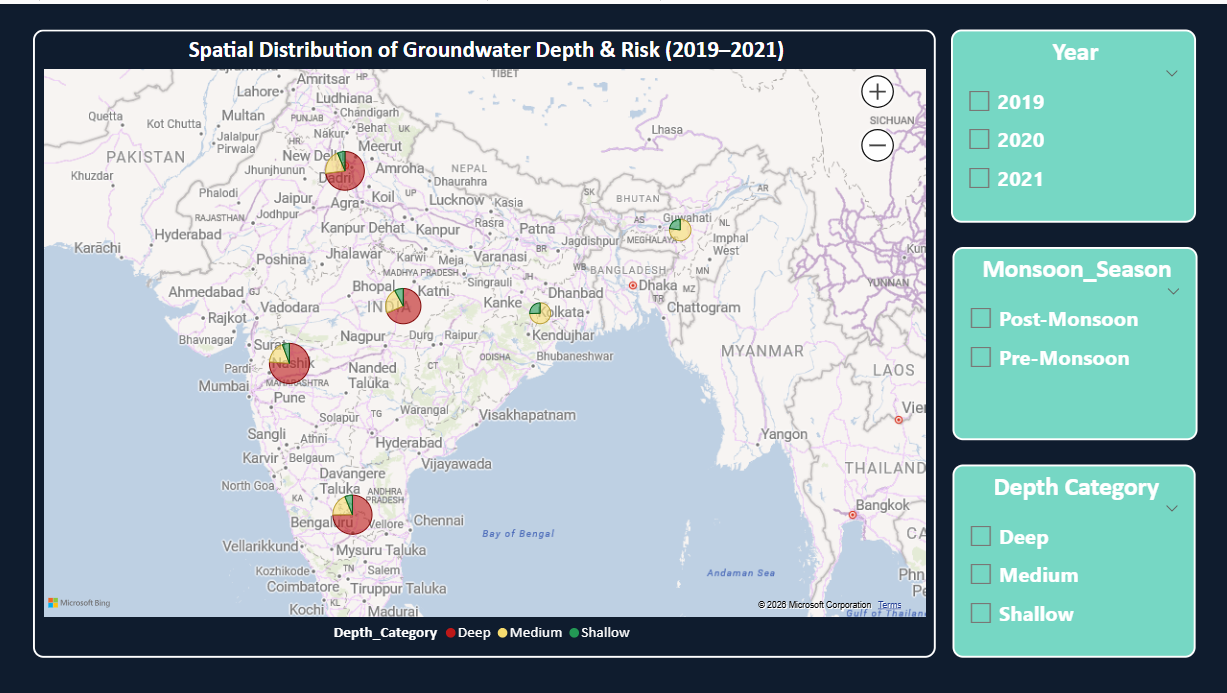

The dashboard page shown, as its layout file describes it:
{"tool":"powerbi","page":{"name":"Spatial Analysis","canvas":[1280,720],"ordinal":1},"visuals":[{"type":"map","title":"Spatial Distribution of Groundwater Depth & Risk (2019–2021)","fields":{"Category":["Dim_Station.Location Hierarchy.Country","Dim_Station.Location Hierarchy.Region","Dim_Station.Location Hierarchy.State Name","Dim_Station.Location Hierarchy.District_Name","Dim_Station.Location Hierarchy.Station_Name"],"Y":["Avg(Dim_Station.Latitude)"],"X":["Avg(Dim_Station.Longitude)"],"Size":["Measure.Avg Current_Depth_to_Water_Level"],"Series":["Fact_Ground_Water.Depth_Catagory"]},"box":[34.4,26.6,940.9,654.9],"z":0},{"type":"slicer","title":"Year","fields":{"Values":["Dim_Date.Year"]},"box":[990.7,26.8,255.2,201.6],"z":1000},{"type":"slicer","title":"Monsoon_Season","fields":{"Values":["Dim_Date.Monsoon_Season"]},"box":[992.3,253.6,255.2,201.6],"z":2000},{"type":"slicer","title":"Depth Category","fields":{"Values":["Fact_Ground_Water.Depth_Catagory"]},"box":[992.3,480.4,253.6,201.6],"z":3000}]}

Visuals, with their boxes in screenshot pixels (x1, y1, x2, y2), scaled from the page's 1280x720 canvas onto the 1227x693 screenshot:
"Spatial Distribution of Groundwater Depth & Risk (2019–2021)" map: box=[33, 26, 935, 656]
"Year" slicer: box=[950, 26, 1194, 220]
"Monsoon_Season" slicer: box=[951, 244, 1196, 438]
"Depth Category" slicer: box=[951, 462, 1194, 656]
